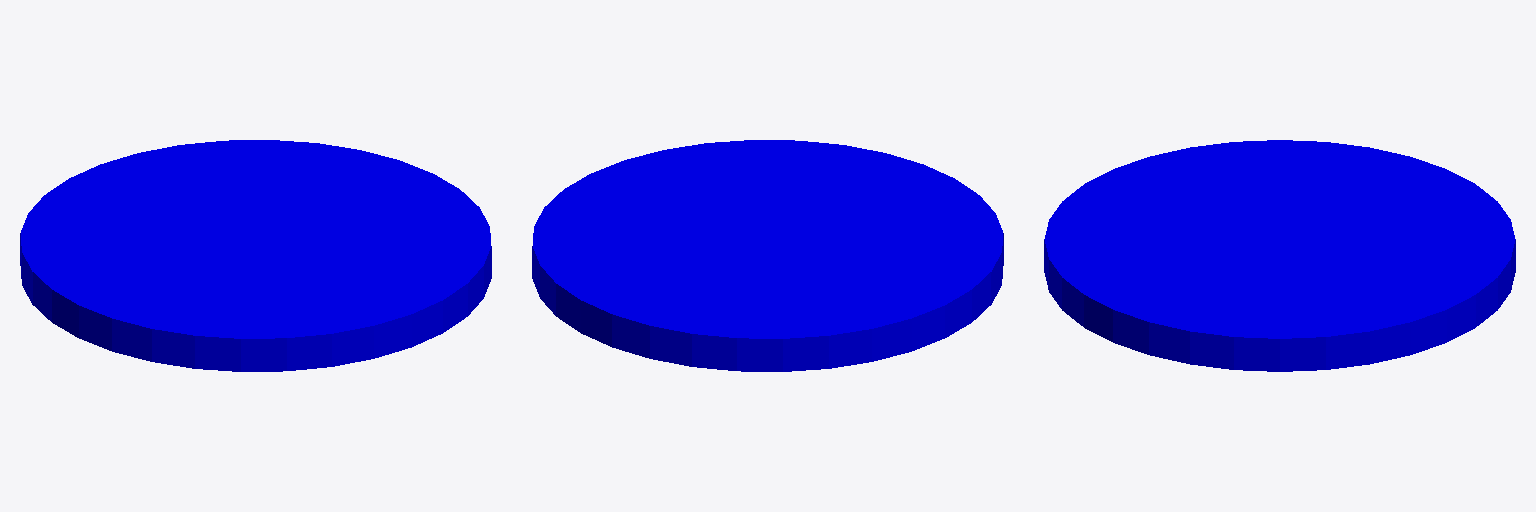
robot.urdf — puck:
<?xml version="1.0" ?>
<!-- =================================================================================== -->
<!-- |    This document was autogenerated by xacro from model.urdf.xacro               | -->
<!-- |    EDITING THIS FILE BY HAND IS NOT RECOMMENDED                                 | -->
<!-- =================================================================================== -->
<robot name="puck">
  <material name="Red">
    <color rgba="1.0 0.0 0.0 1"/>
  </material>
  <material name="Green">
    <color rgba="0.0 1.0 0.0 1"/>
  </material>
  <material name="Blue">
    <color rgba="0.0 0.0 1.0 1"/>
  </material>


  <link name="Puck_link">
    <inertial>
      <origin rpy="0 0 0" xyz="0 0 0.0"/>
      <mass value="0.013"/>
      <inertia ixx="1" ixy="0" ixz="0" iyy="1" iyz="0" izz="5e-6"/>
    </inertial>
    <visual>
      <origin rpy="0 0 0" xyz="0 0 0.0"/>
      <geometry>
        <cylinder length="0.0049" radius="0.03165"/>
      </geometry>
      <material name="Blue"/>
    </visual>
    <collision>
      <origin rpy="0 0 0" xyz="0 0 0.0"/>
      <geometry>
        <cylinder length="0.0049" radius="0.03165"/>
      </geometry>
    </collision>
    <contact>
      <restitution value="1.0"/>
      <lateral_friction value="1.0"/>
      <rolling_friction value="0.0"/>
      <spinning_friction value="1.0"/>
    </contact>
  </link>
  <gazebo reference="Puck">
    <collision>
      <surface>
        <bounce>
          <restitution_coefficient>1.0</restitution_coefficient>
          <threshold>0.0</threshold>
        </bounce>
        <friction>
          <!-- For Gazebo Must contain tag ode, mu, mu2, check https://github.com/osrf/sdformat/issues/31 -->
          <!-- https://github.com/osrf/gazebo/blob/gazebo11/gazebo/physics/bullet/BulletSurfaceParams.cc -->
          <torsional>
            <coefficient>1.0</coefficient>
            <use_patch_radius>false</use_patch_radius>
            <surface_radius>0.03165</surface_radius>
          </torsional>
          <ode>
            <mu>1.0</mu>
            <mu2>1.0</mu2>
            <slip1>1.0</slip1>
            <slip2>1.0</slip2>
          </ode>
        </friction>
        <contact>
          <collide_bitmask>0x03</collide_bitmask>
          <ode>
            <kp>1e9</kp>
            <max_vel>10</max_vel>
          </ode>
        </contact>
      </surface>
    </collision>
    <material>Gazebo/Red</material>
  </gazebo>
  <gazebo>
    <updateRate>500.0</updateRate>
    <plugin filename="libpuck_tf_plugin.so" name="puck_tf_plugin">
            </plugin>
  </gazebo>
</robot>

--- Render facts (derived) ---
The picture shows the robot from 3 angles, left to right: view 1: azimuth 30°, elevation 25°; view 2: azimuth 150°, elevation 25°; view 3: azimuth 270°, elevation 25°; orthographic projection.
Robot: puck — 1 links, 0 joints (none); root link Puck_link; default pose: every joint at zero.
Links seen in each view (by area): view 1: Puck_link; view 2: Puck_link; view 3: Puck_link.
Boxes of the visible links, x1,y1,x2,y2 form: Puck_link: [20, 140, 491, 371]; Puck_link: [532, 140, 1003, 371]; Puck_link: [1044, 140, 1515, 371].
Size in the robot's own frame: 0.0633 by 0.0633 by 0.0049 metres.
Geometry: primitives only (box / cylinder / sphere), no mesh files.